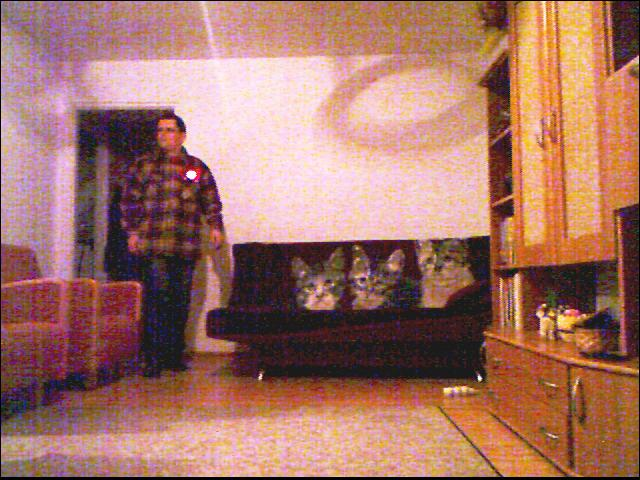walking: (111, 100, 230, 389)
